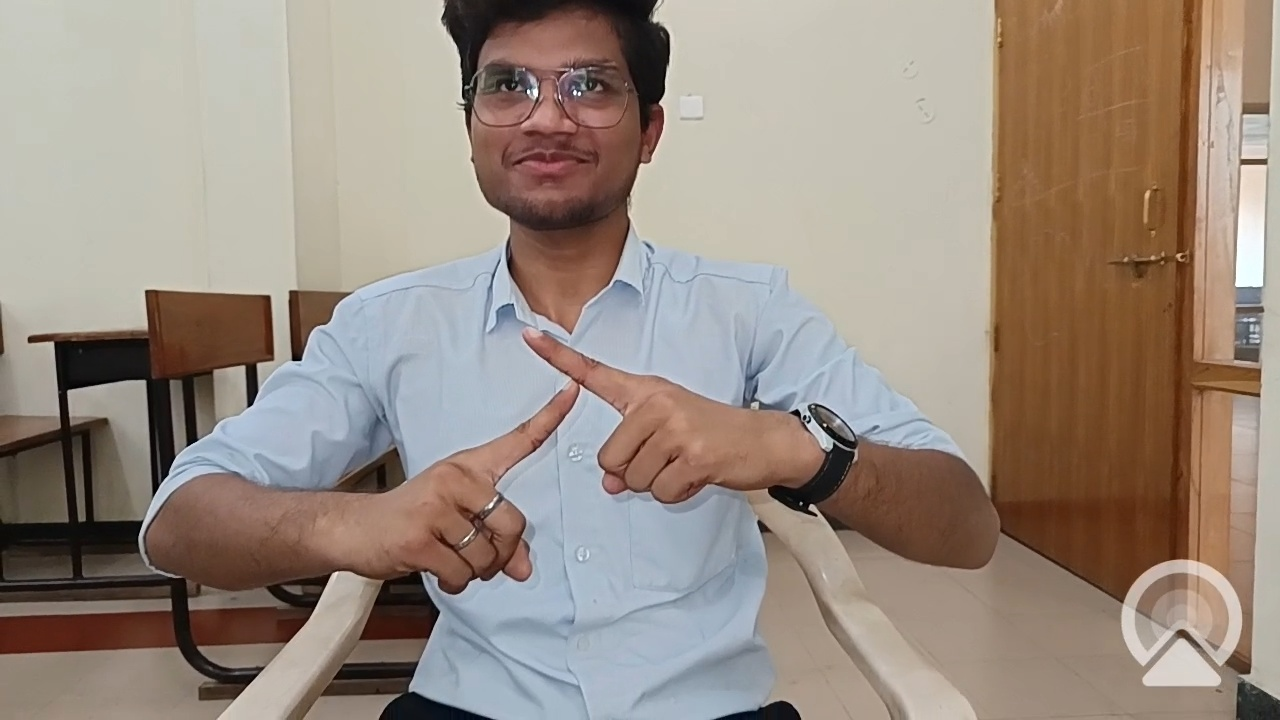T: (396, 256, 759, 645)
